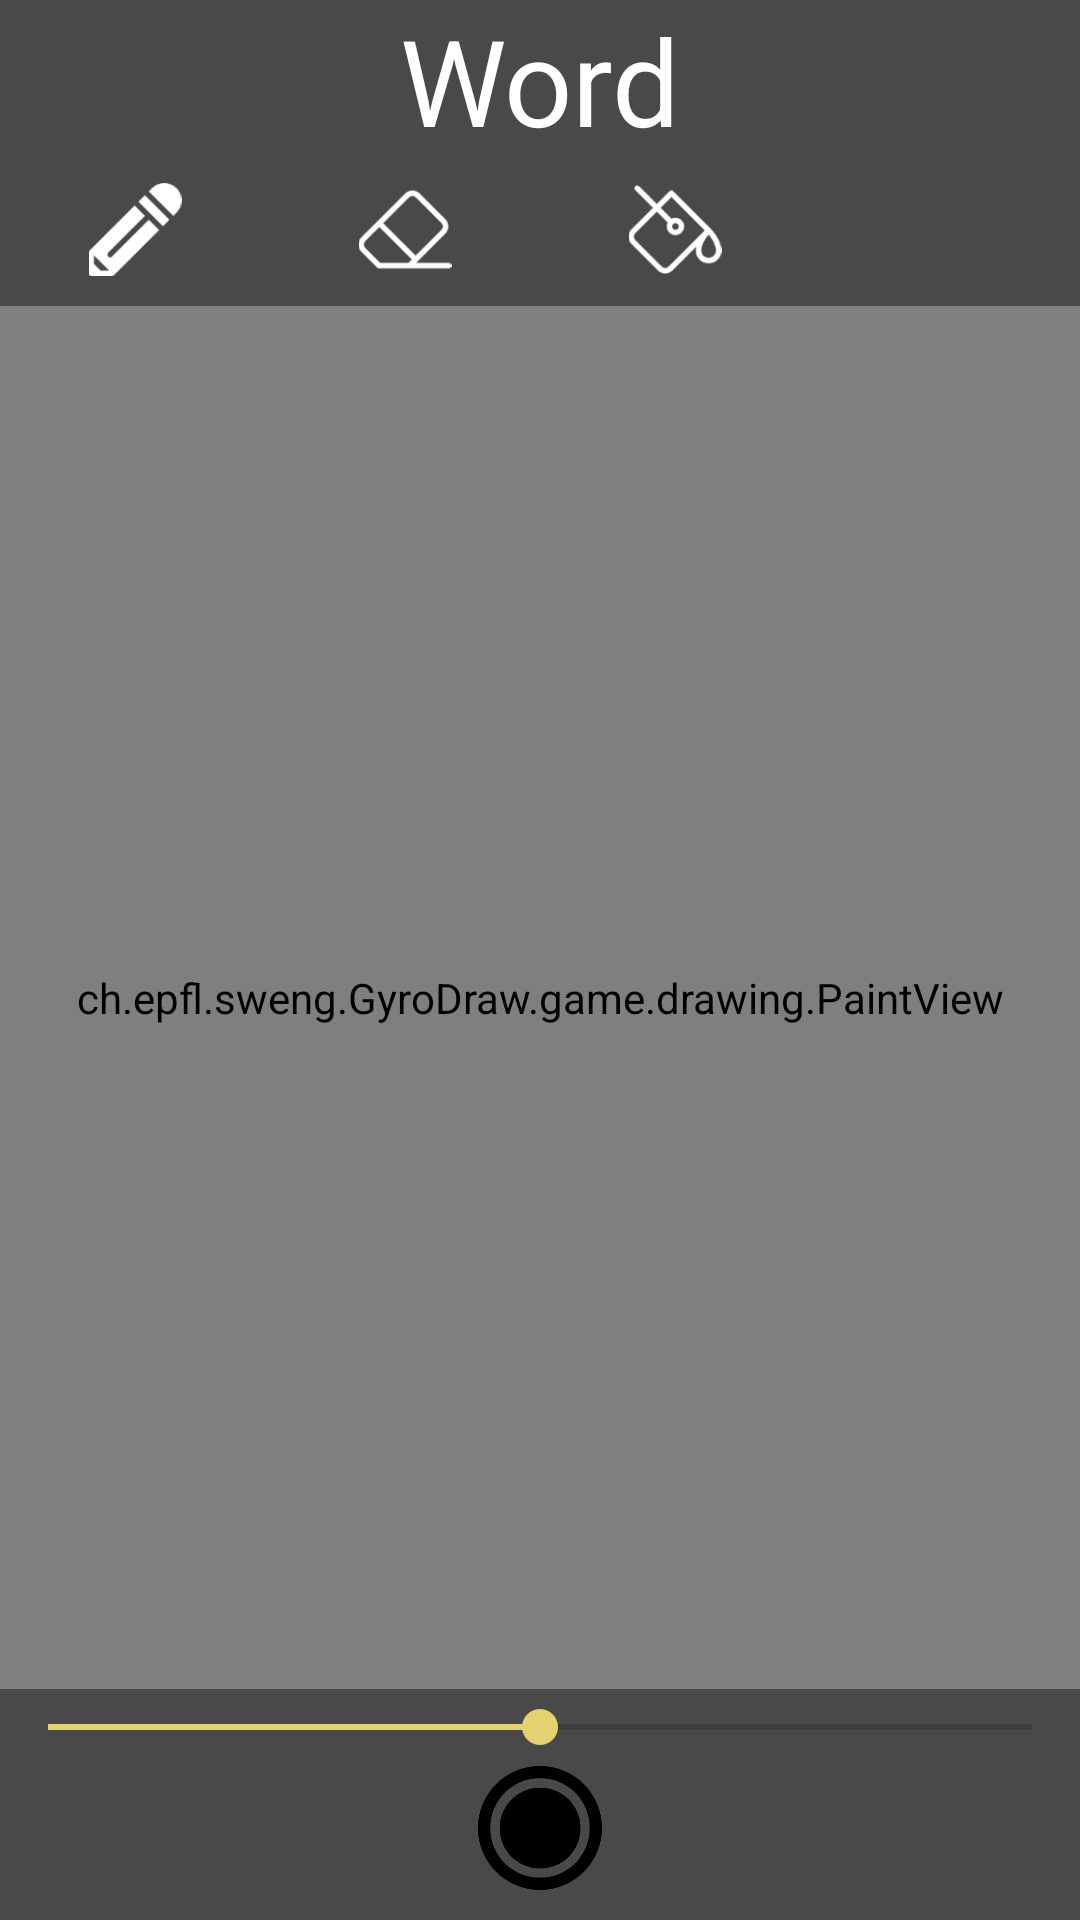

Screen size 1080px x 1920px. Icon name, then its center in pixels as point (x, y):
bucket: point (675, 229)
eraser: point (405, 229)
